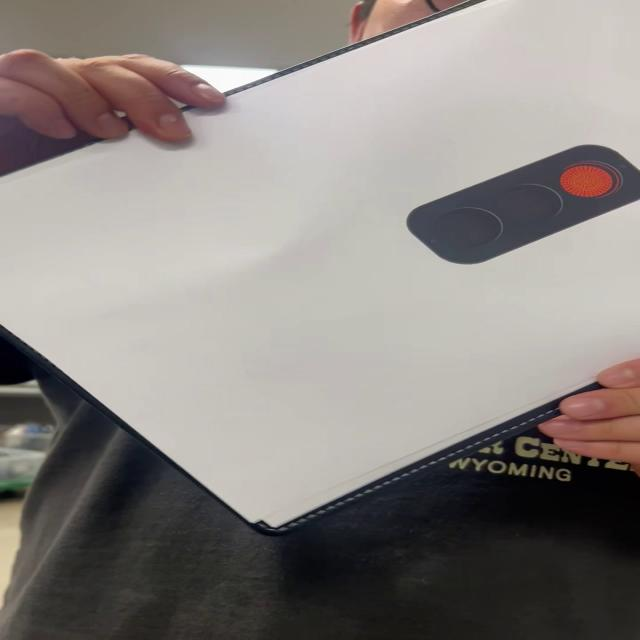red: (399, 144, 640, 267)
